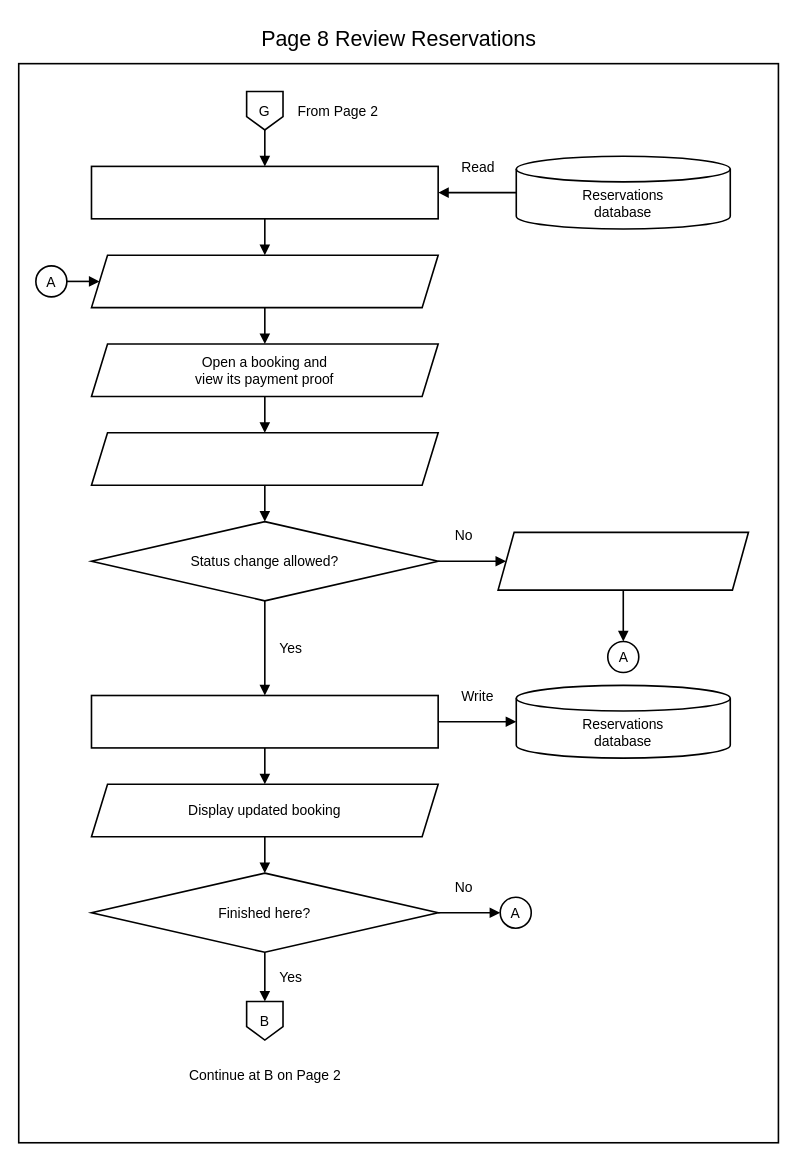
This 798x1162 diagram has some shape labels left out. The shapes that lost their labels are listed below. From the top down, each one's centre as x and y in pixels, then its label:
At point (264, 192): "Retrieve reservations".
At point (264, 281): "Display reservations".
At point (264, 459): "Choose new status".
At point (623, 560): "Display error".
At point (264, 721): "Save status and history; notify the customer".
